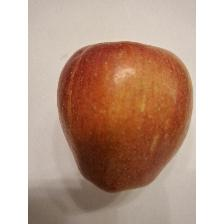Apfel: (55, 39, 195, 196)
